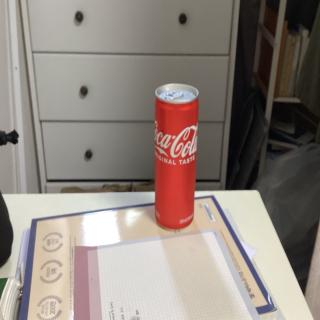cocacola: (154, 81, 200, 232)
